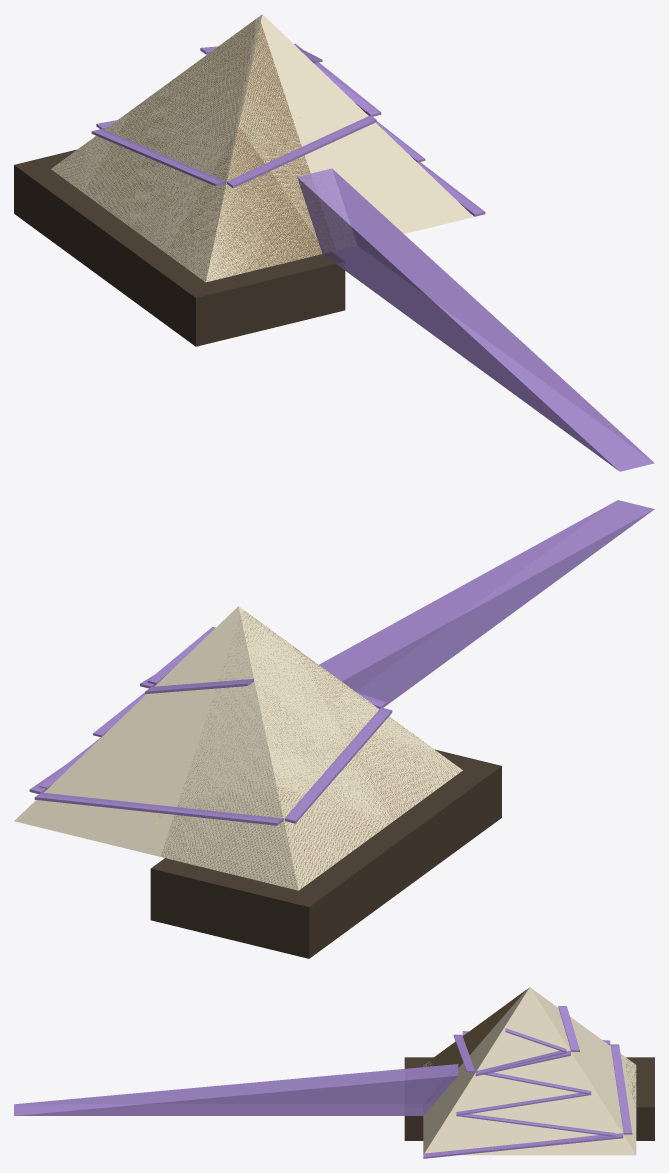
Rendered from great-pyramid.glb.
The picture shows the model from 3 angles, top to bottom: view 1: azimuth 30°, elevation 25°; view 2: azimuth 150°, elevation 25°; view 3: azimuth 270°, elevation 25°; orthographic projection. The views are drawn at different scales.
Visible parts, largest first — view 1: Casing as built, Section: masonry, Section: bedrock, Interpretation: straight ramp, Interpretation: spiral ramp, Interpretation: zigzag ramp; view 2: Casing as built, Section: bedrock, Interpretation: straight ramp, Section: masonry, Interpretation: spiral ramp, Interpretation: zigzag ramp; view 3: Casing as built, Interpretation: straight ramp, Interpretation: spiral ramp, Interpretation: zigzag ramp, Section: bedrock, Section: masonry.
Part boxes in pixels (left/top/right/bottom): Casing as built: left=51, top=14, right=473, bottom=282; Section: masonry: left=52, top=19, right=334, bottom=281; Section: bedrock: left=14, top=149, right=345, bottom=346; Interpretation: straight ramp: left=297, top=168, right=654, bottom=471; Interpretation: spiral ramp: left=91, top=43, right=485, bottom=216; Interpretation: zigzag ramp: left=296, top=46, right=425, bottom=162; Casing as built: left=14, top=606, right=462, bottom=890; Section: bedrock: left=150, top=749, right=501, bottom=958; Interpretation: straight ramp: left=319, top=500, right=654, bottom=705; Section: masonry: left=161, top=611, right=460, bottom=889; Interpretation: spiral ramp: left=29, top=675, right=392, bottom=825; Interpretation: zigzag ramp: left=38, top=627, right=215, bottom=789; Casing as built: left=423, top=987, right=636, bottom=1155; Interpretation: straight ramp: left=14, top=1064, right=458, bottom=1115; Interpretation: spiral ramp: left=423, top=1006, right=632, bottom=1158; Interpretation: zigzag ramp: left=433, top=1028, right=615, bottom=1157; Section: bedrock: left=404, top=1057, right=654, bottom=1140; Section: masonry: left=423, top=990, right=636, bottom=1103.
Size of the model in its own units: 1.04 by 0.7468 by 2.77.
